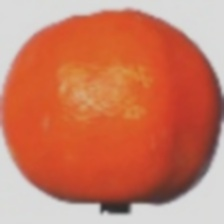tangerine: (24, 11, 164, 176)
